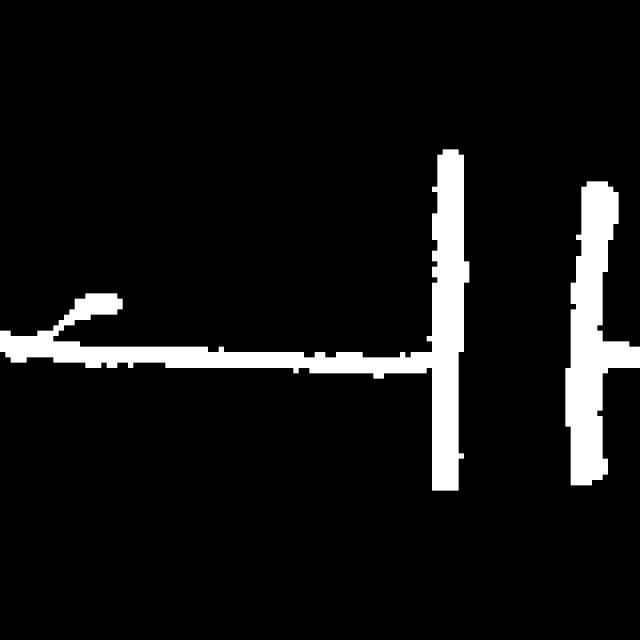capacitor: (404, 133, 626, 523)
